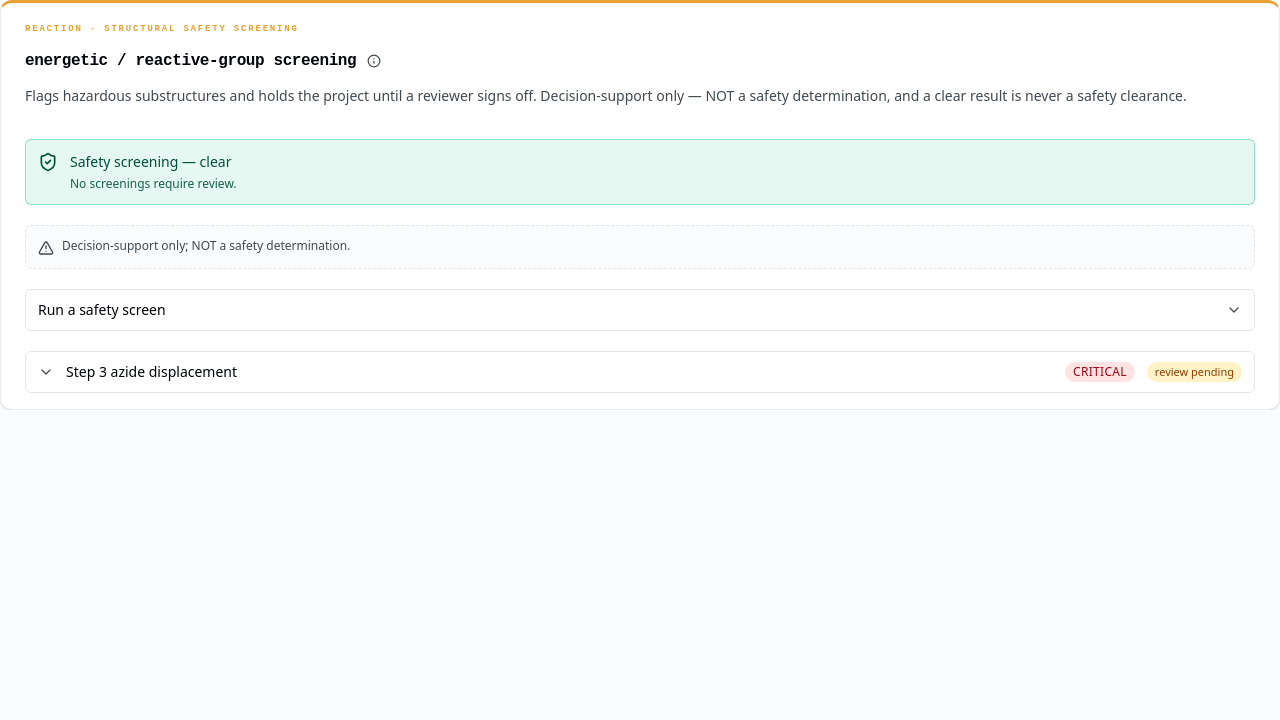
Test: SafetyScreeningPanel › lists a screening and reveals its flagged groups + mitigation on expand
This screenshot has width=1280, height=720.
Click the text "Step 3 azide displacement": (152, 372) [66, 362, 237, 381]
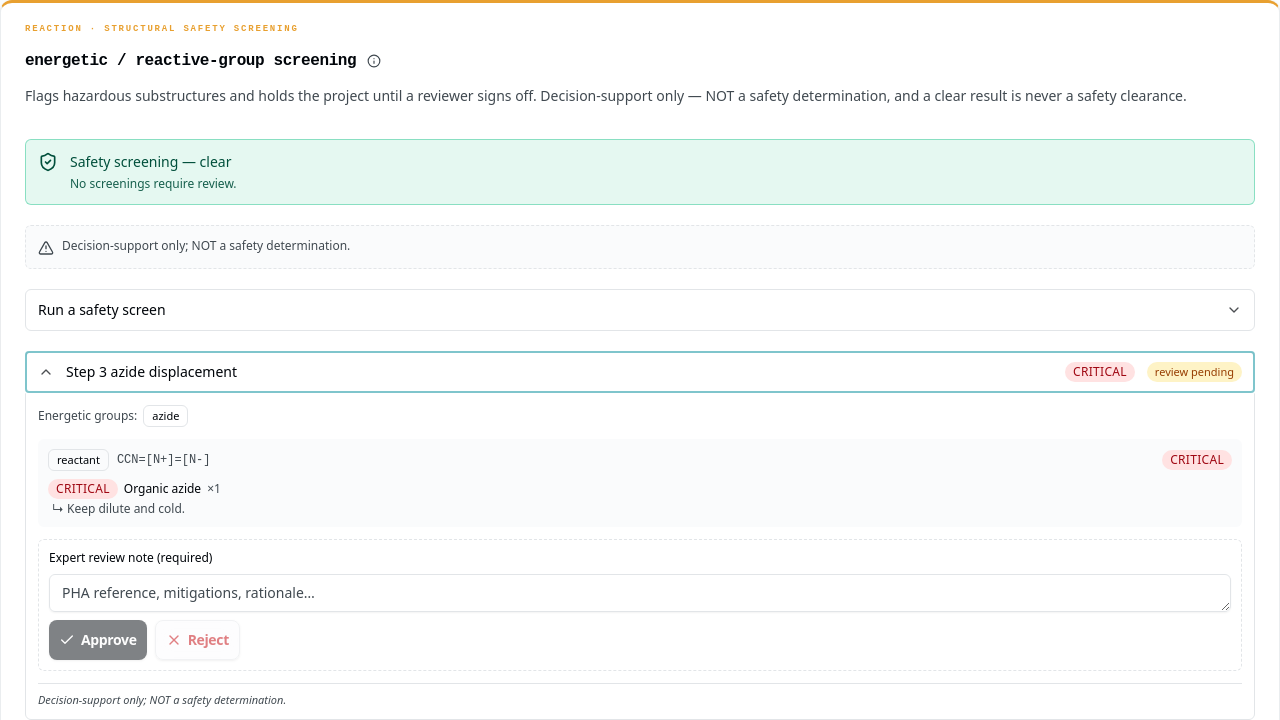
Now the text "Organic azide" is shown, box [124, 481, 201, 497]
Now the text "↳ Keep dilute and cold." is shown, box [52, 500, 185, 517]
